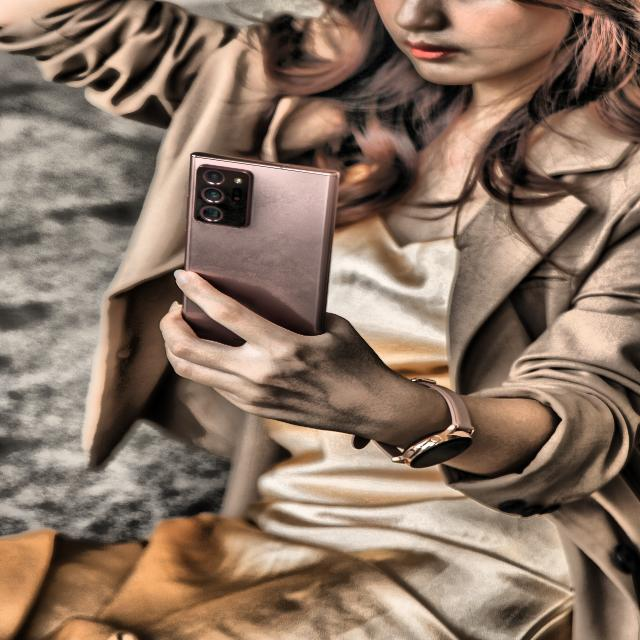Phone: (179, 148, 340, 364)
